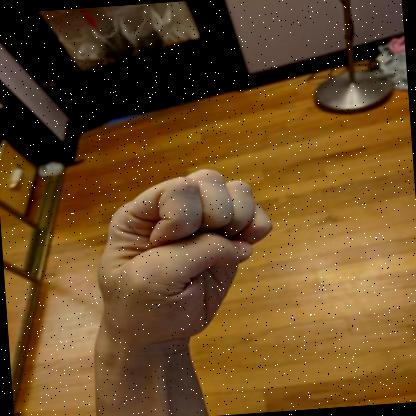E: (96, 169, 273, 351)
